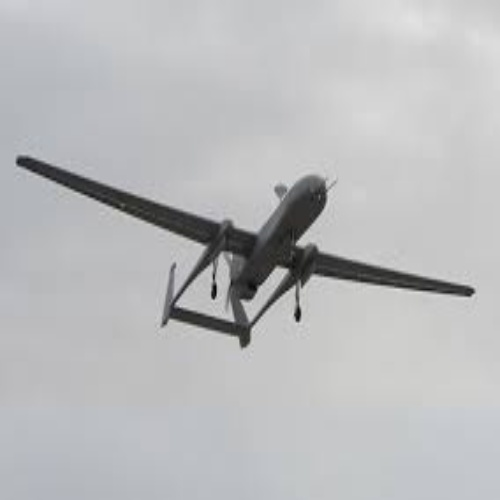uav: (12, 155, 477, 348)
